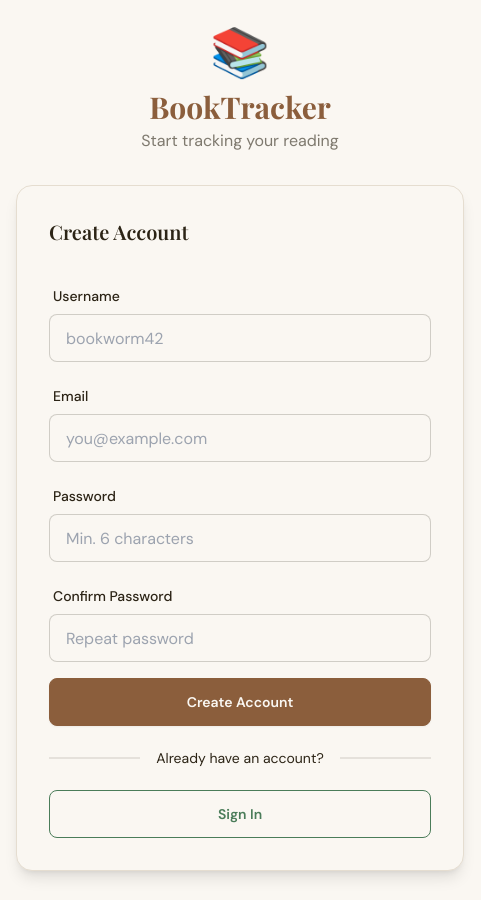
Test: RegisterPage Component Unit Tests › Password Length Boundary Validation › should reject a password exactly 5 characters long (Below Boundary)
The image size is (481, 900).
In the field labelled "Username": (240, 338) [49,314,431,362], type "selma"
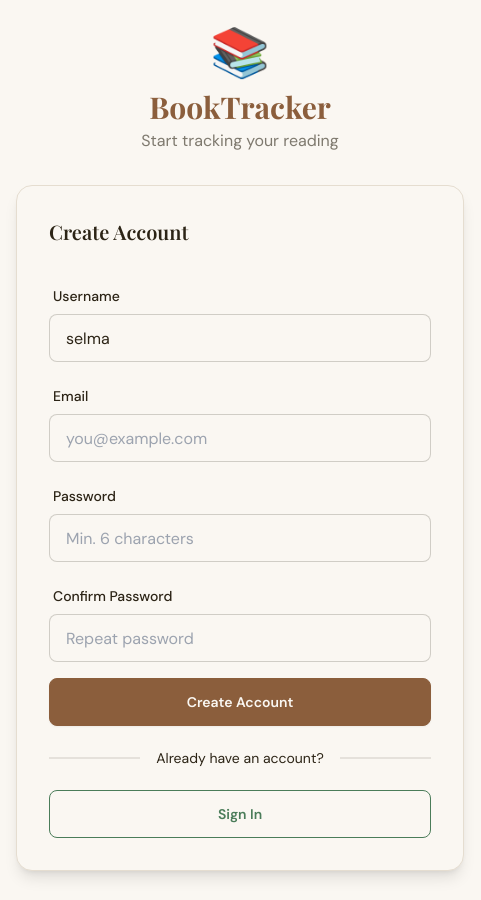
In the field named "Email Address": (240, 438) [49,414,431,462], type "selma@burch.edu"
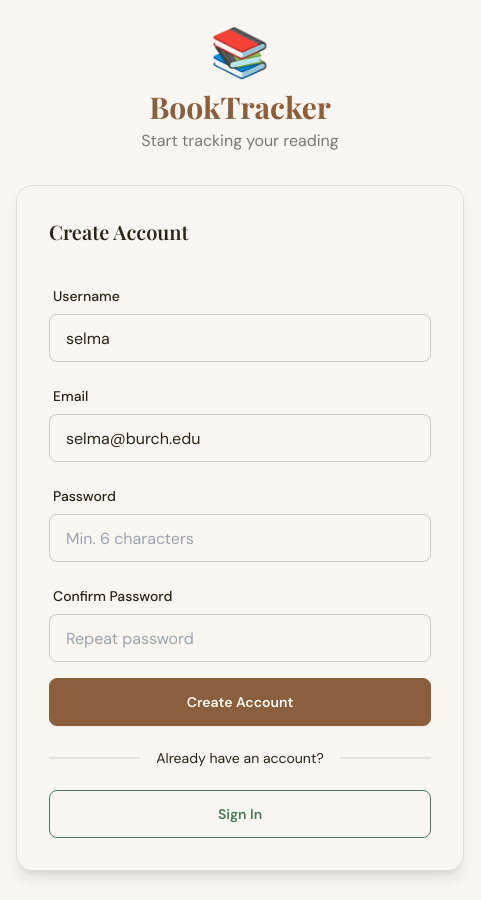
In the password field labelled "Password": (240, 538) [49,514,431,562], type "12345"
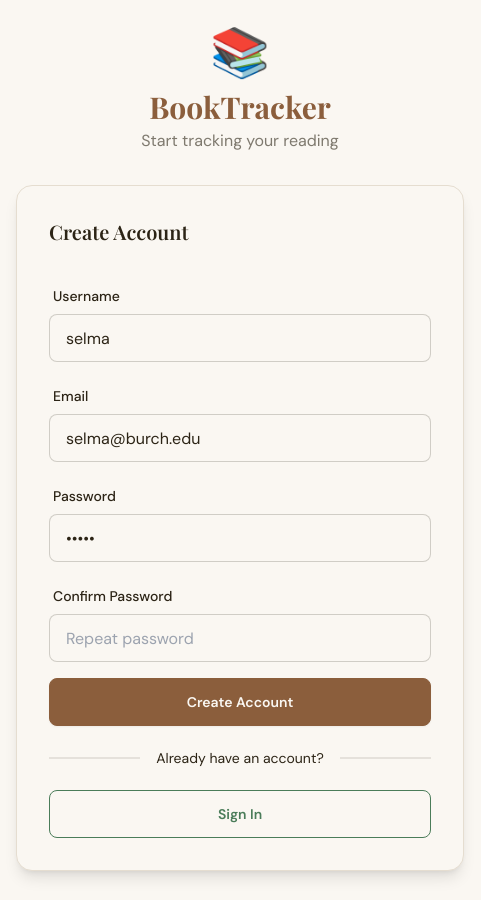
In the password field labelled "Confirm Password": (240, 638) [49,614,431,662], type "12345"
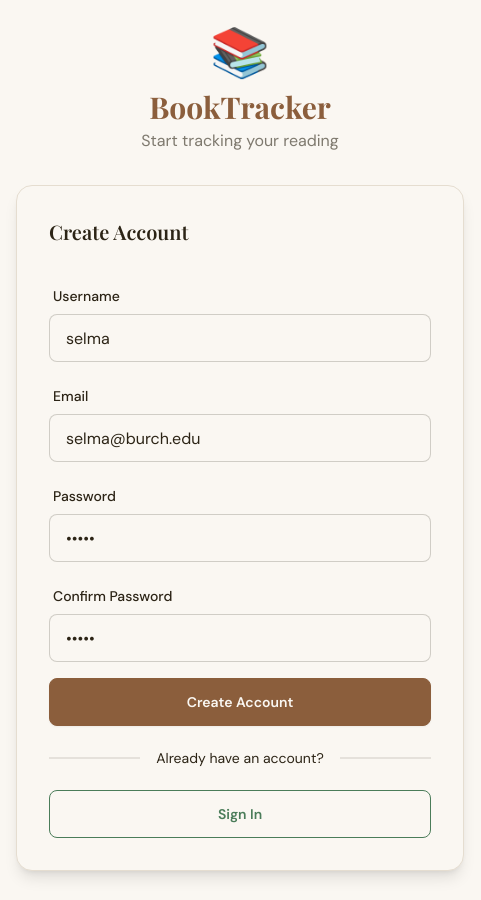
Click the button "Create Account": (240, 702) [49,678,431,726]
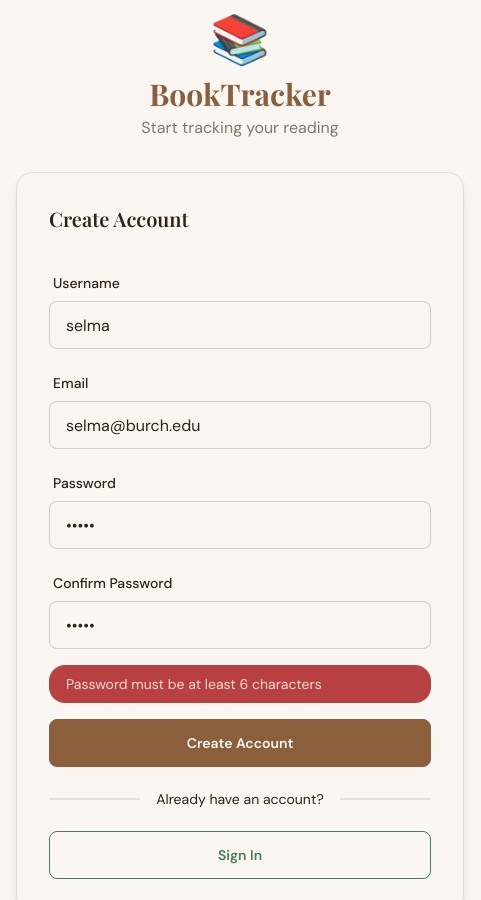
Result: the message reads "Password must be at least 6 characters" at [66,675,322,693]
